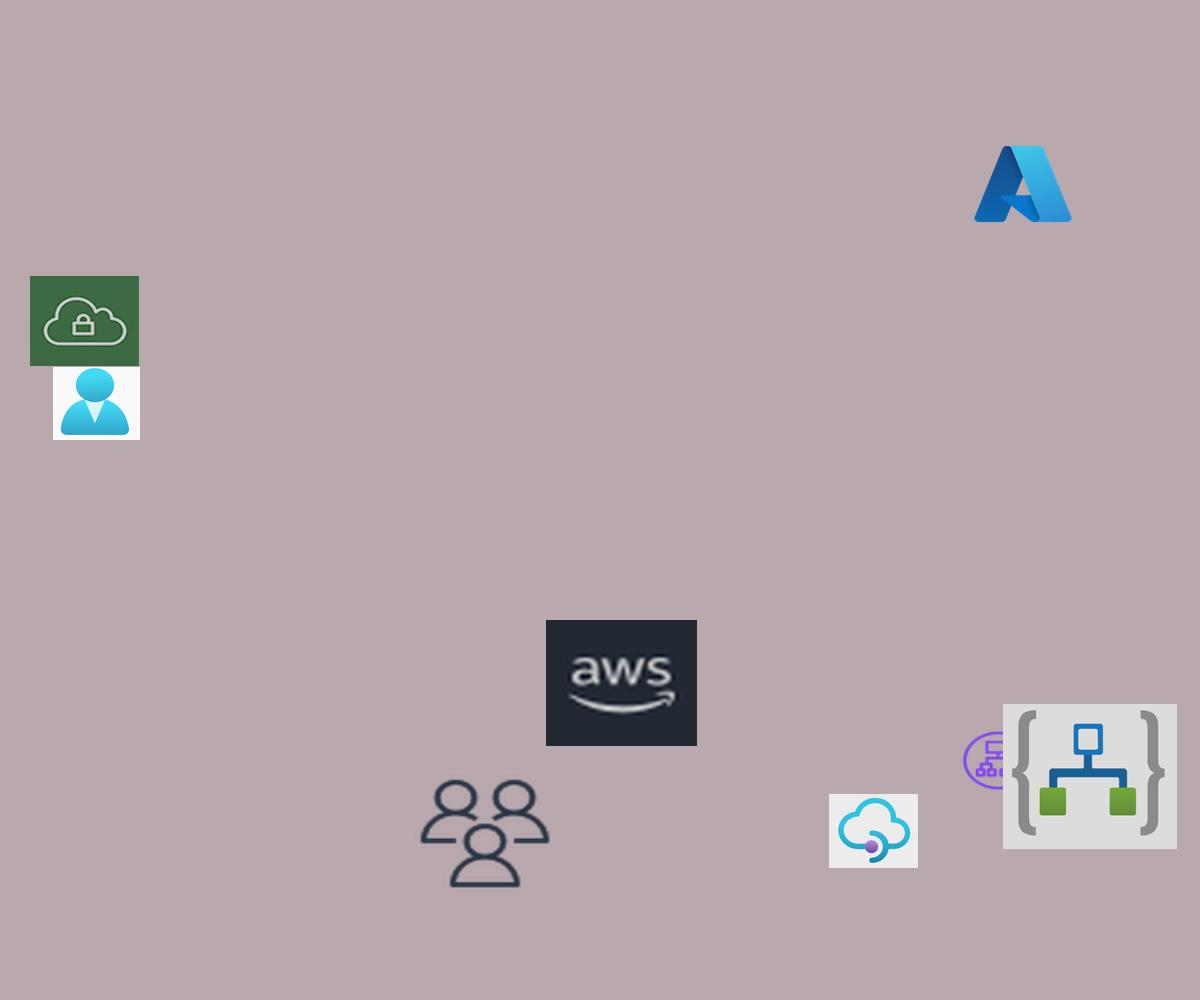AWS-Cloud-logo: (546, 620, 697, 746)
AWS-Private_vpc: (30, 276, 139, 366)
AWS-Res_Elastic-Load-Balancing_Application-Load-Balancer: (960, 729, 1036, 792)
AWS-Res_Users: (415, 775, 555, 892)
Azure_api_gateway: (829, 794, 918, 868)
Azure_integration-204-Logic-Apps: (1003, 704, 1177, 849)
Azure_services: (970, 140, 1076, 228)
Azure_users: (53, 367, 140, 440)
